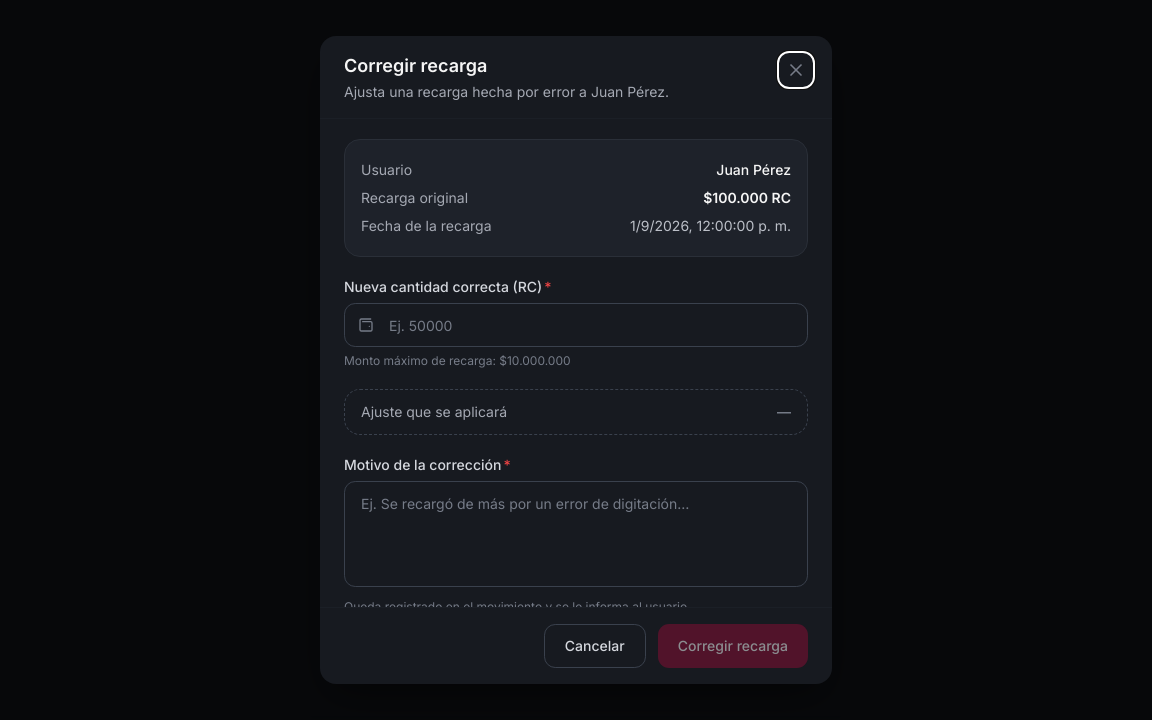
Test: CorrectRechargeModal › muestra el ajuste calculado (negativo y positivo)
The width and height of the screenshot is (1152, 720).
Type "50000" into the field labelled "Nueva cantidad correcta (RC)*".
click(576, 325); type("50000")  # box [344,303,808,347]
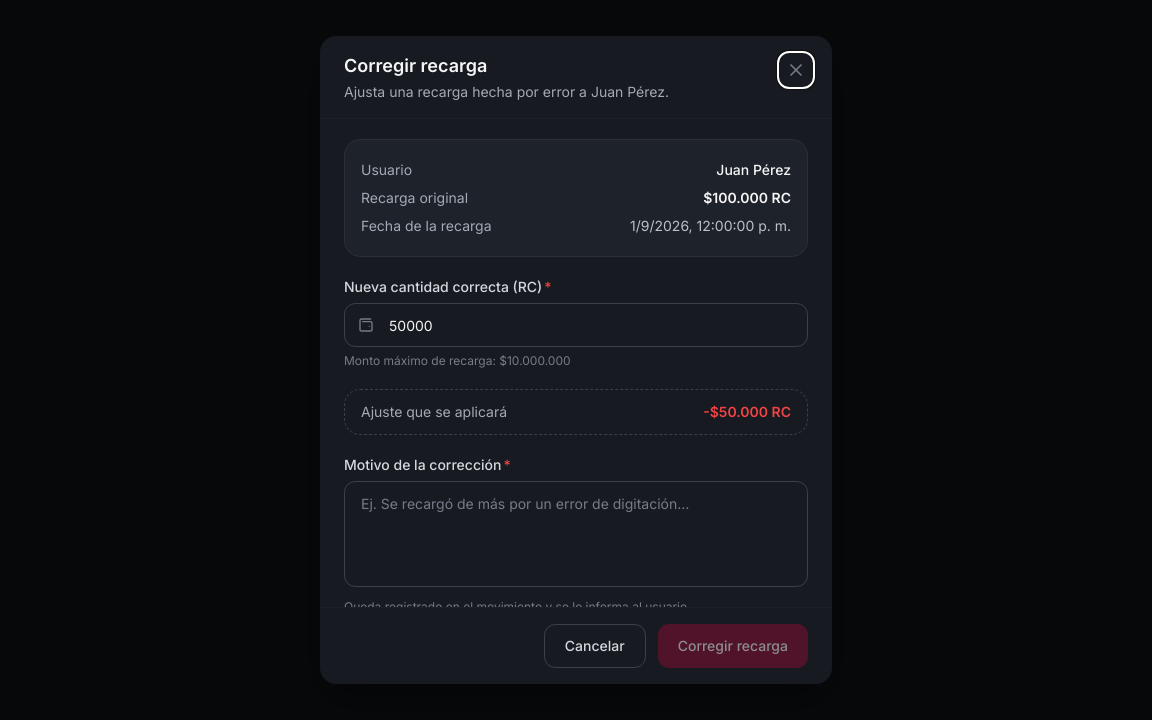
Expected: the text "-$50.000 RC" is shown, [703,402,791,422]
Replace the text in the field labelled "Nueva cantidad correcta (RC)*" with "150000" at (576, 325), box [344,303,808,347]
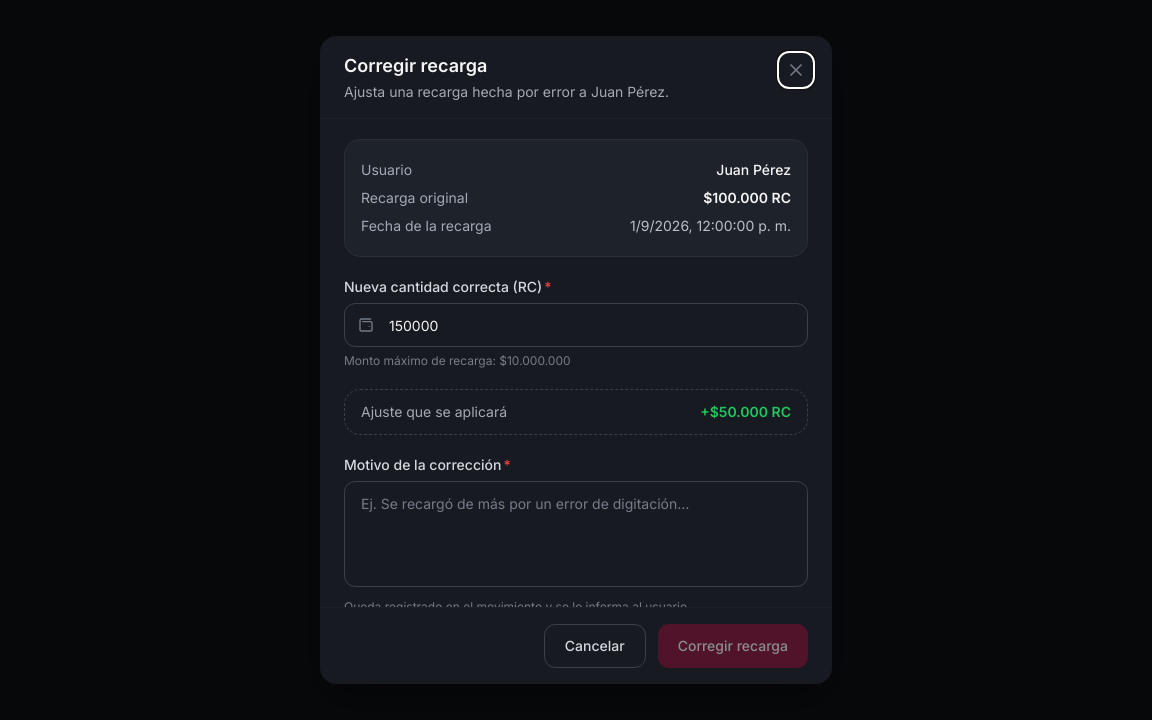
Expected: the text "+$50.000 RC" is shown, [700,402,791,422]
